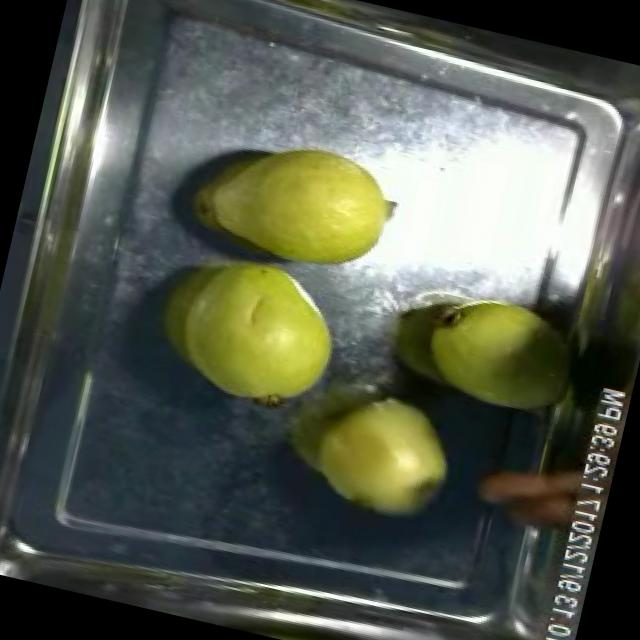Fruit: (137, 234, 363, 428), (172, 112, 411, 291), (408, 272, 600, 433), (291, 372, 468, 534)
